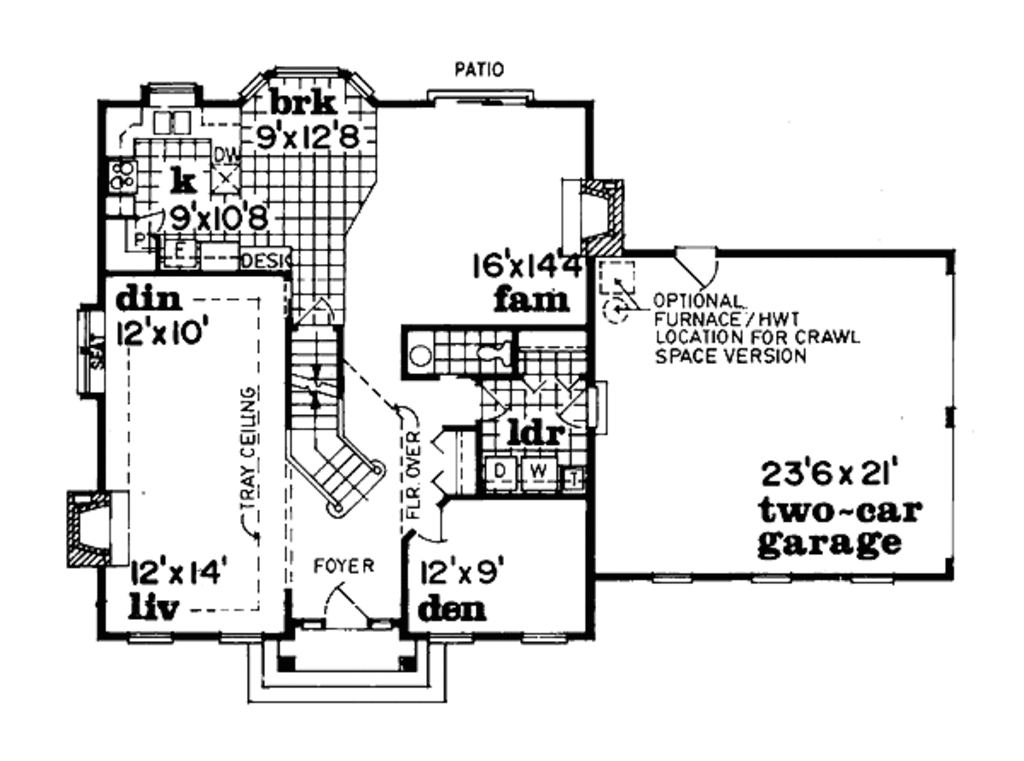door: (321, 580, 370, 629), (676, 242, 720, 288), (412, 504, 445, 547)
large_sink: (470, 334, 515, 371)
small_sink: (401, 329, 436, 379)
stairs: (287, 332, 387, 524)
windows: (270, 63, 349, 83), (123, 627, 172, 650), (214, 629, 269, 648), (425, 624, 472, 646), (639, 570, 693, 589), (853, 570, 895, 592), (513, 632, 571, 647), (749, 570, 791, 590), (141, 79, 195, 92)
